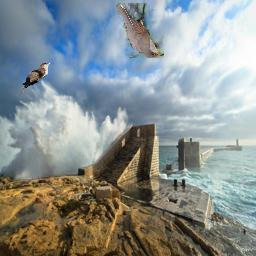Cuckoo: (116, 4, 164, 59), (18, 63, 53, 100)
